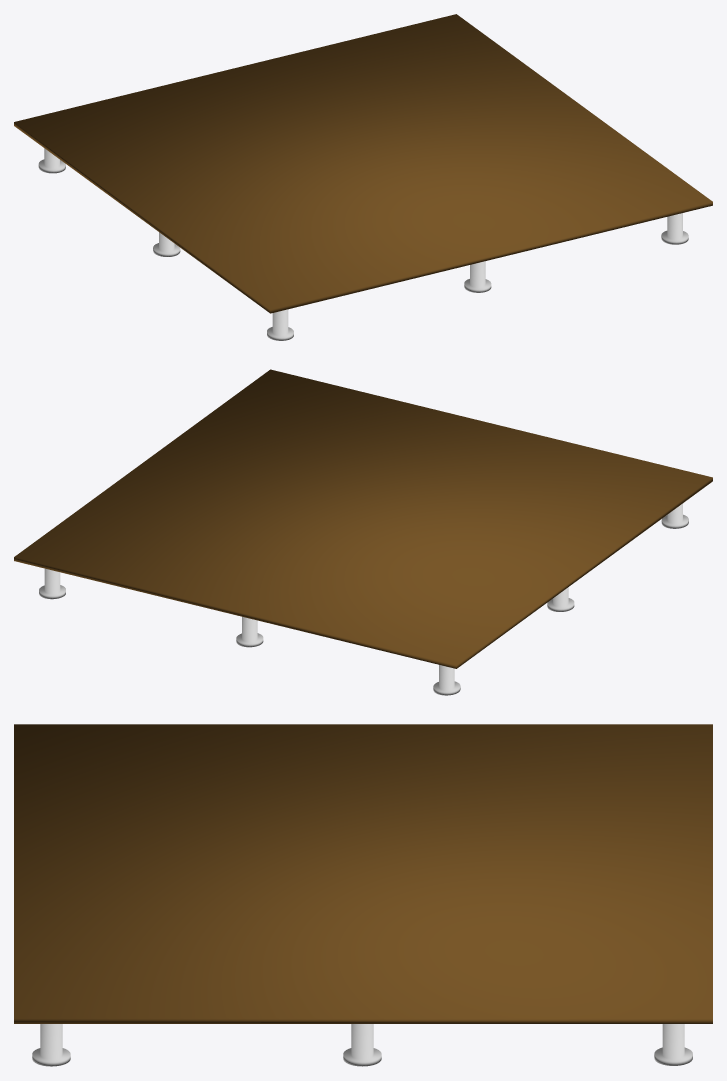
The model's file is palco.fbx.
The picture shows the model from 3 angles, top to bottom: view 1: azimuth 30°, elevation 25°; view 2: azimuth 150°, elevation 25°; view 3: azimuth 270°, elevation 25°; orthographic projection. The views are drawn at different scales.
Parts seen in each view (by area): view 1: Cube; view 2: Cube; view 3: Cube.
Part boxes in pixels (bbox=[...]): Cube: bbox=[14, 14, 712, 340]; Cube: bbox=[14, 369, 712, 695]; Cube: bbox=[14, 724, 712, 1066].
Size of the model in its own units: 11.97 by 1.07 by 12.01.
